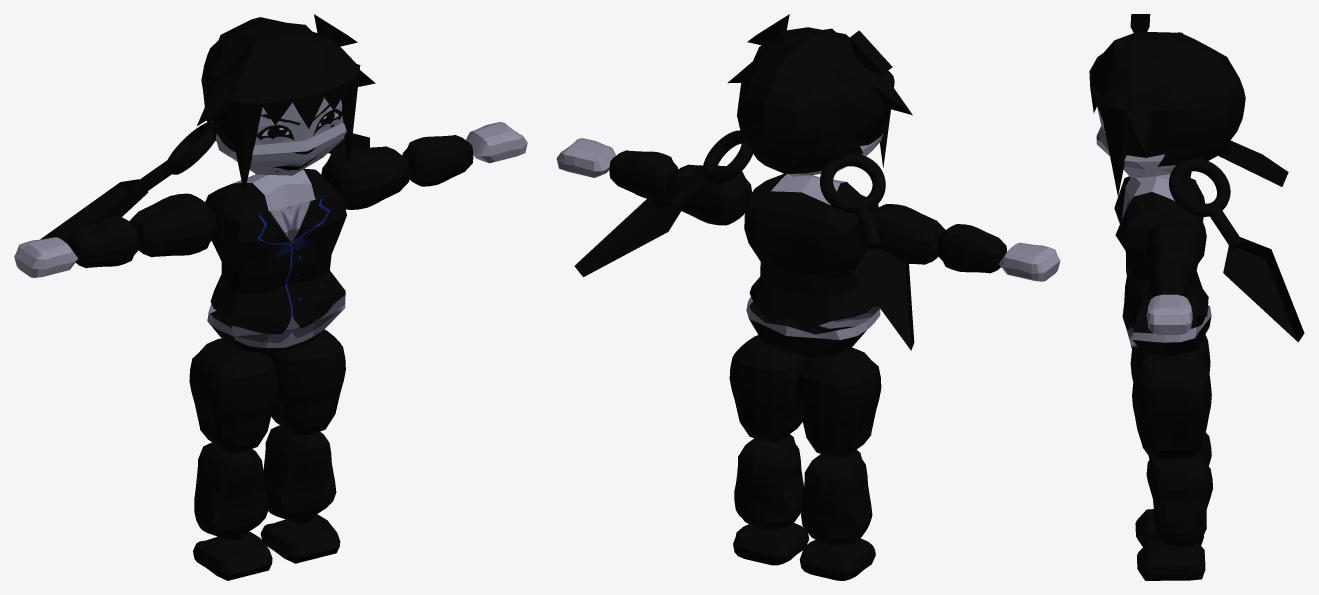
Rendered from student-09.glb.
3 views of the same model, side by side, from view 1: azimuth 30°, elevation 25°; view 2: azimuth 150°, elevation 25°; view 3: azimuth 270°, elevation 25° (orthographic). The views are drawn at different scales.
Visible parts, largest first — view 1: body.001, arms, leg-right, leg-left, head.011, head.003, head.008, head.001, head.007, head.010, head.009, head.004; view 2: body.001, leg-right, arms, leg-left, head.009, head.008, head.011, head.007, head.010, head.004; view 3: leg-left, body.001, head.008, head.009, head.011, arms, head.001, leg-right, head.007, head.010, head.006, head.012 (+2 smaller).
Boxes of the visible parts, x1=… form: body.001: x1=205, y1=168, x2=346, y2=353; arms: x1=14, y1=122, x2=527, y2=277; leg-right: x1=189, y1=338, x2=278, y2=580; leg-left: x1=260, y1=329, x2=345, y2=563; head.011: x1=205, y1=27, x2=355, y2=142; head.003: x1=250, y1=98, x2=346, y2=175; head.008: x1=40, y1=122, x2=369, y2=244; head.001: x1=225, y1=72, x2=359, y2=193; head.007: x1=209, y1=14, x2=357, y2=77; head.010: x1=212, y1=21, x2=303, y2=151; head.009: x1=201, y1=17, x2=311, y2=141; head.004: x1=197, y1=76, x2=232, y2=125; body.001: x1=744, y1=174, x2=880, y2=357; leg-right: x1=796, y1=347, x2=881, y2=580; arms: x1=556, y1=138, x2=1060, y2=281; leg-left: x1=729, y1=335, x2=812, y2=565; head.009: x1=737, y1=46, x2=863, y2=174; head.008: x1=574, y1=130, x2=914, y2=350; head.011: x1=752, y1=27, x2=888, y2=144; head.007: x1=747, y1=14, x2=892, y2=73; head.010: x1=774, y1=28, x2=886, y2=145; head.004: x1=868, y1=73, x2=912, y2=115; leg-left: x1=1132, y1=354, x2=1212, y2=580; body.001: x1=1114, y1=174, x2=1211, y2=356; head.008: x1=1169, y1=140, x2=1304, y2=342; head.009: x1=1157, y1=32, x2=1245, y2=166; head.011: x1=1090, y1=31, x2=1182, y2=157; arms: x1=1146, y1=171, x2=1200, y2=334; head.001: x1=1089, y1=60, x2=1128, y2=195; leg-right: x1=1130, y1=334, x2=1211, y2=546; head.007: x1=1130, y1=14, x2=1152, y2=93; head.010: x1=1117, y1=33, x2=1178, y2=72; head.006: x1=1123, y1=154, x2=1175, y2=177; head.012: x1=1126, y1=107, x2=1152, y2=153.
Bounding box in the file's own units: 17.2 × 17.73 × 6.6.
Materials: 27 (2 with a texture image).
